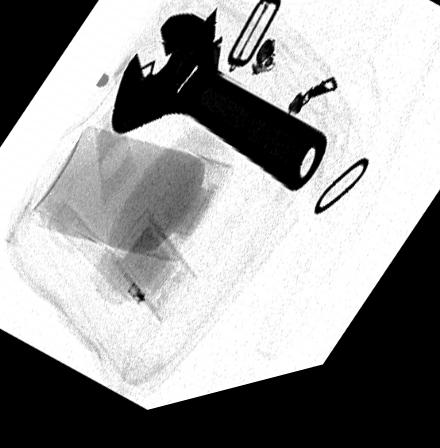Wrench: (111, 15, 331, 208)
